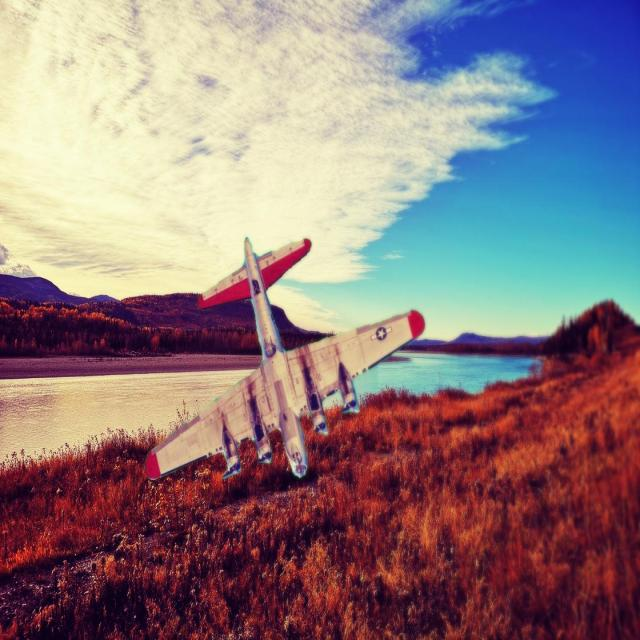airplane: (144, 235, 425, 482)
